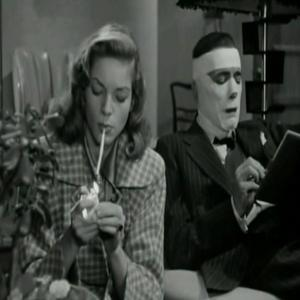cigarette: (89, 125, 111, 178)
